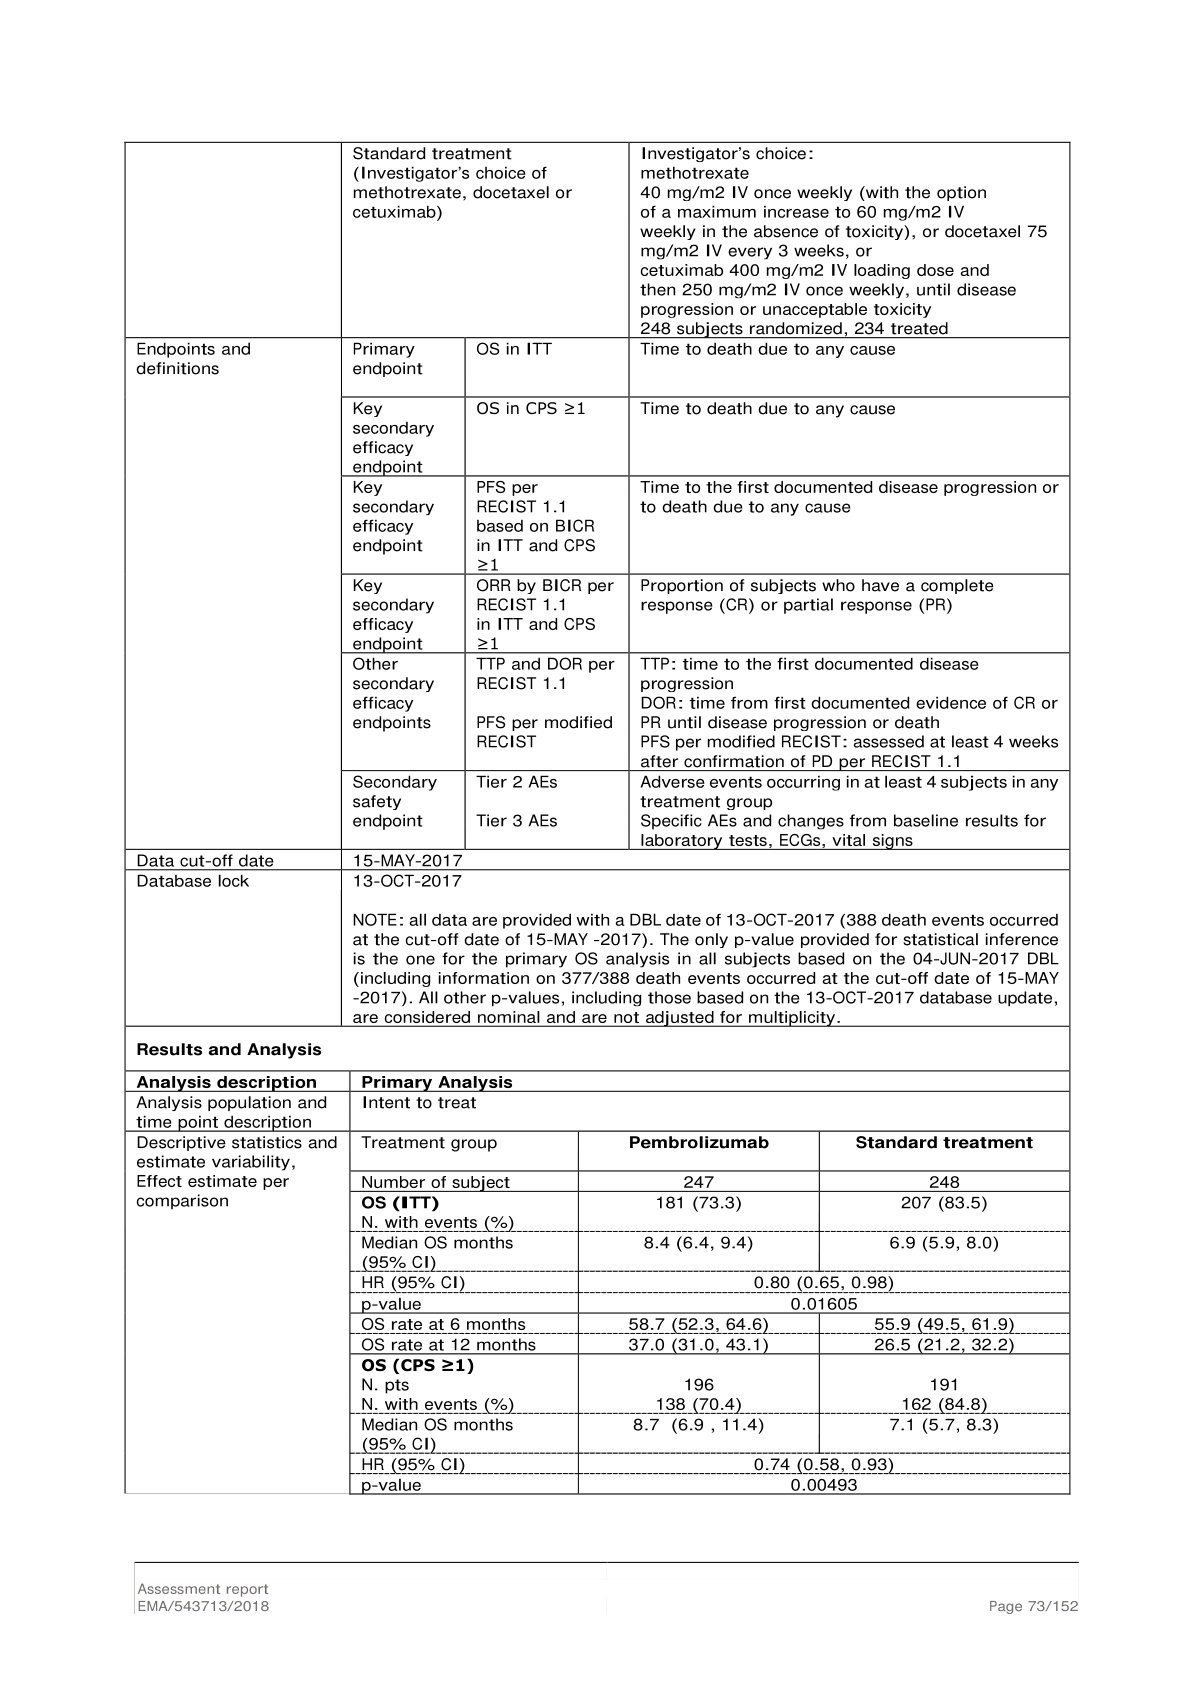merged_cells: (124, 140, 1072, 1495)
